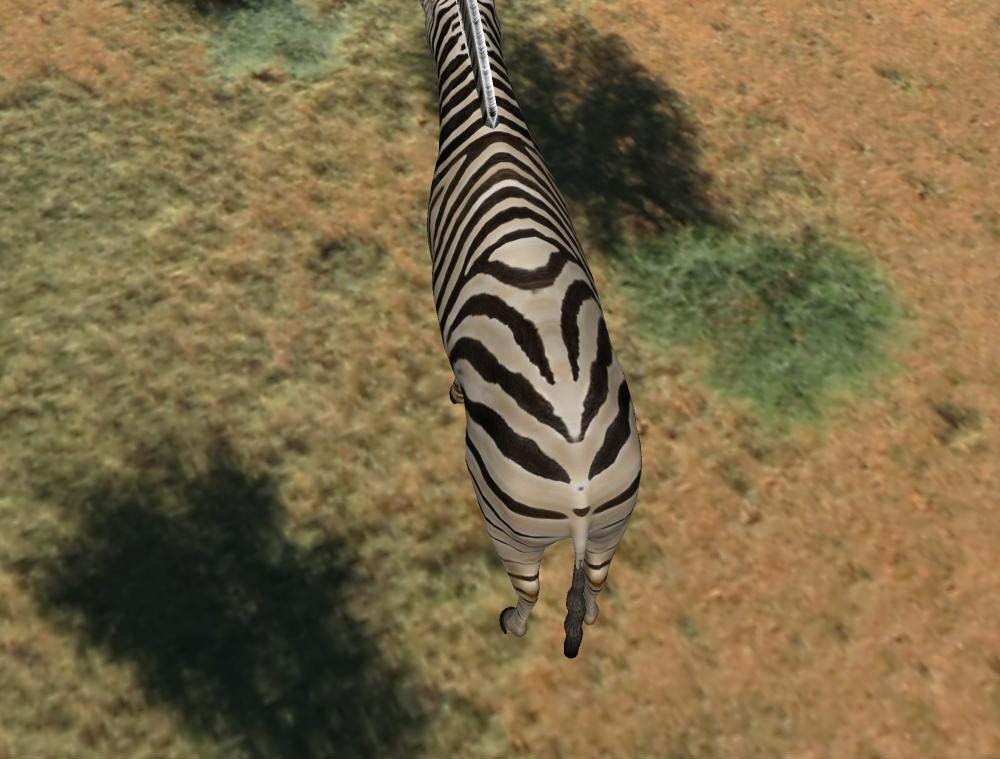zebra: (412, 2, 650, 662)
